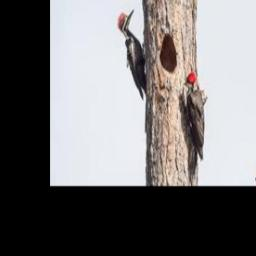Woodpecker: (117, 8, 147, 99), (183, 72, 205, 185)
